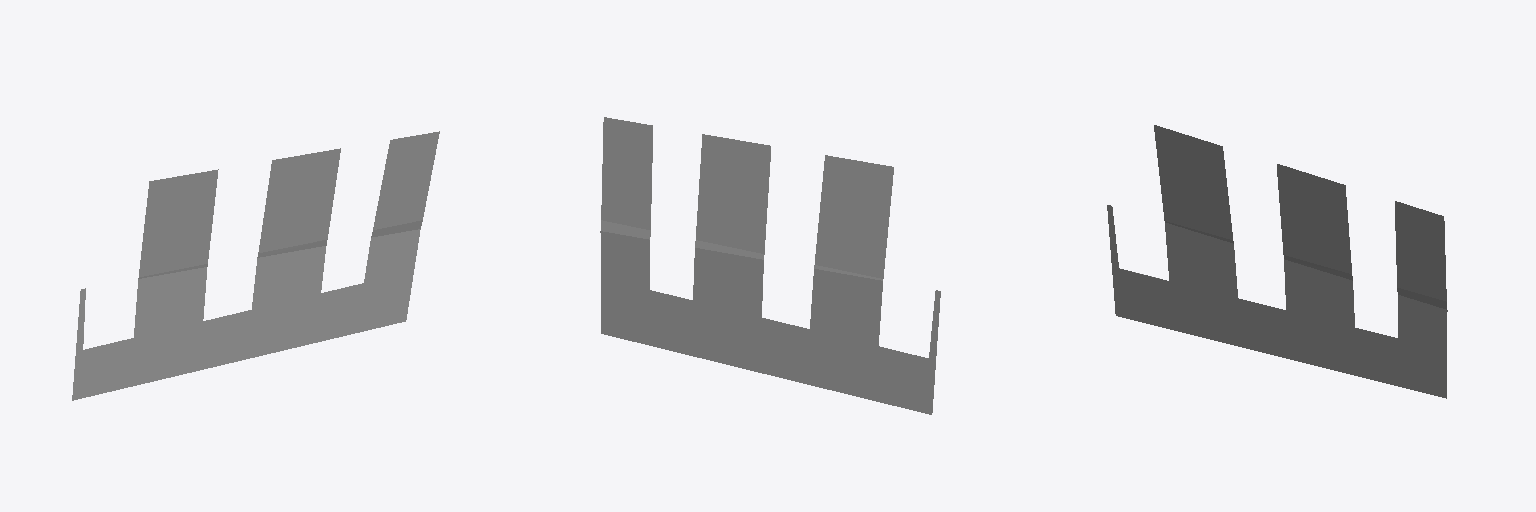
The model's file is original-499.obj.
3 views of the same model, side by side, from view 1: azimuth 30°, elevation 25°; view 2: azimuth 150°, elevation 25°; view 3: azimuth 330°, elevation 25° (orthographic).
Visible parts, largest first — view 1: #ID3314; view 2: #ID3314; view 3: #ID3314.
Boxes of the visible parts, x1,y1,x2,y2 form: #ID3314: [72, 131, 439, 400]; #ID3314: [600, 117, 940, 414]; #ID3314: [1107, 125, 1447, 398].
Size of the model in its own units: 0.013 by 0.0079 by 0.0013.